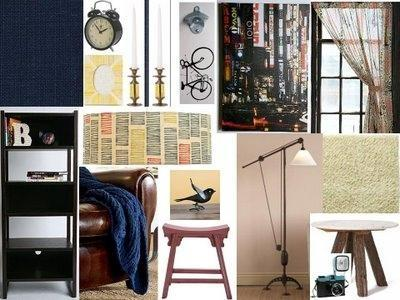bicycle: (180, 46, 214, 100)
